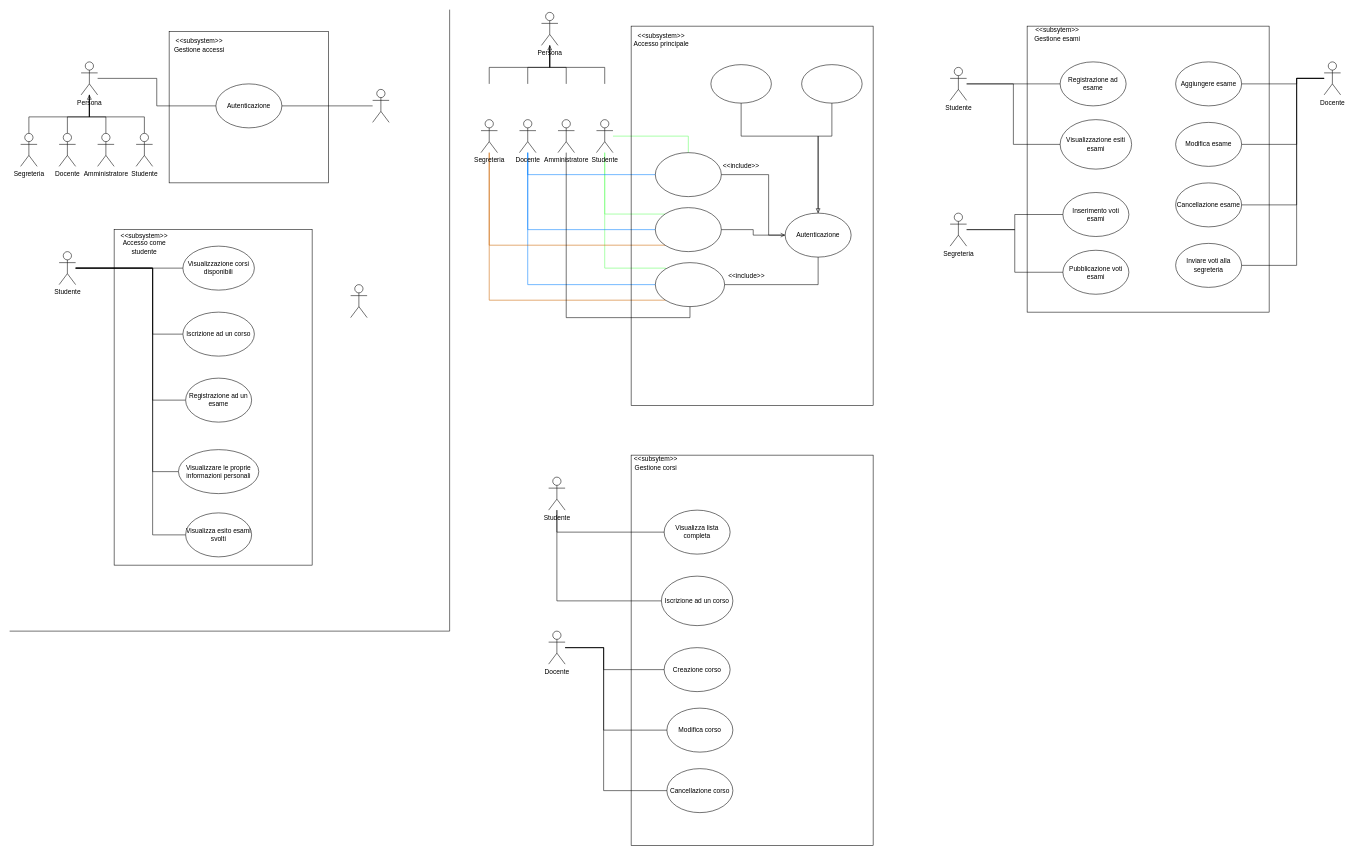
This 1354x855 diagram has some shape labels left out. Each missing label, with the box of its shape:
Accesso tramite sessione: (801, 64, 862, 103)
Gestione Corsi: (655, 152, 721, 197)
Gestione dati personale: (655, 262, 725, 307)
Gestione Esami: (655, 207, 721, 252)
Login: (710, 64, 771, 103)
Sito Web: (350, 284, 367, 318)
Sottosistema di riferimento: (372, 89, 389, 122)
